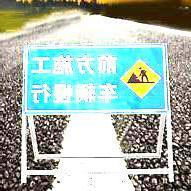sign: (25, 43, 165, 112)
